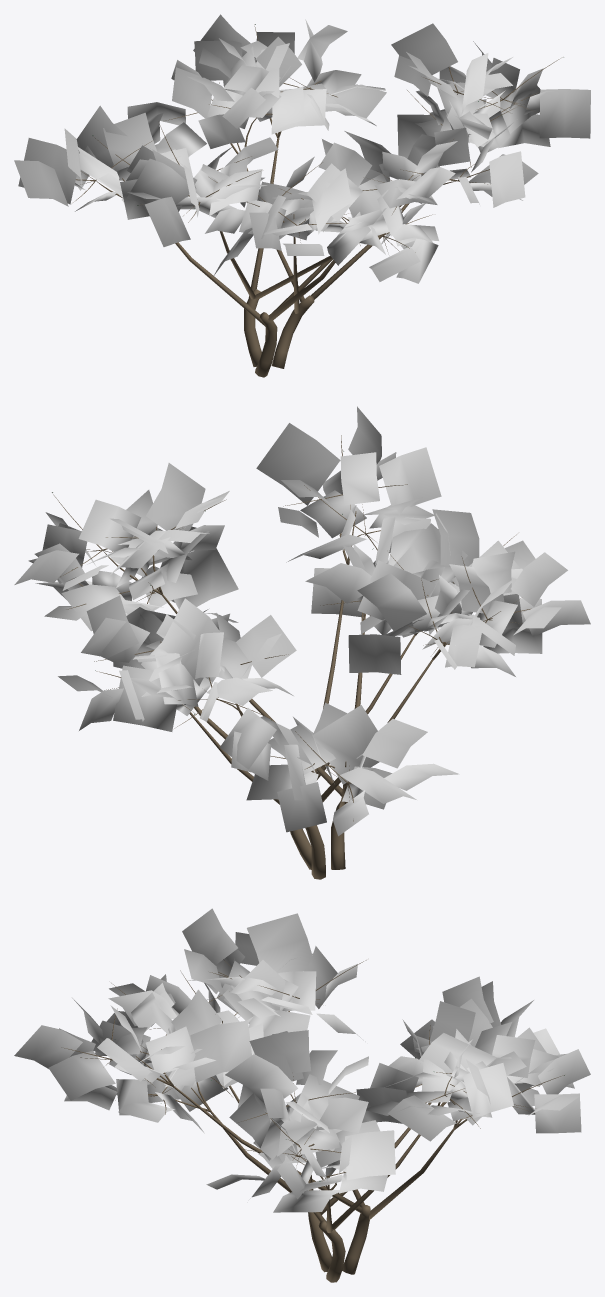
The model's file is V7_Genevrier_1_Niveau1.fbx.
3 views of the same model, one above another, from view 1: azimuth 30°, elevation 25°; view 2: azimuth 150°, elevation 25°; view 3: azimuth 270°, elevation 25° (orthographic). The views are drawn at different scales.
Visible parts, largest first — view 1: V7_Genevrier_1_Detail1; view 2: V7_Genevrier_1_Detail1; view 3: V7_Genevrier_1_Detail1.
Boxes of the visible parts, bbox=[...] form: V7_Genevrier_1_Detail1: bbox=[14, 14, 590, 377]; V7_Genevrier_1_Detail1: bbox=[14, 406, 590, 879]; V7_Genevrier_1_Detail1: bbox=[14, 908, 590, 1282].
Size of the model in its own units: 333 by 204 by 341.
